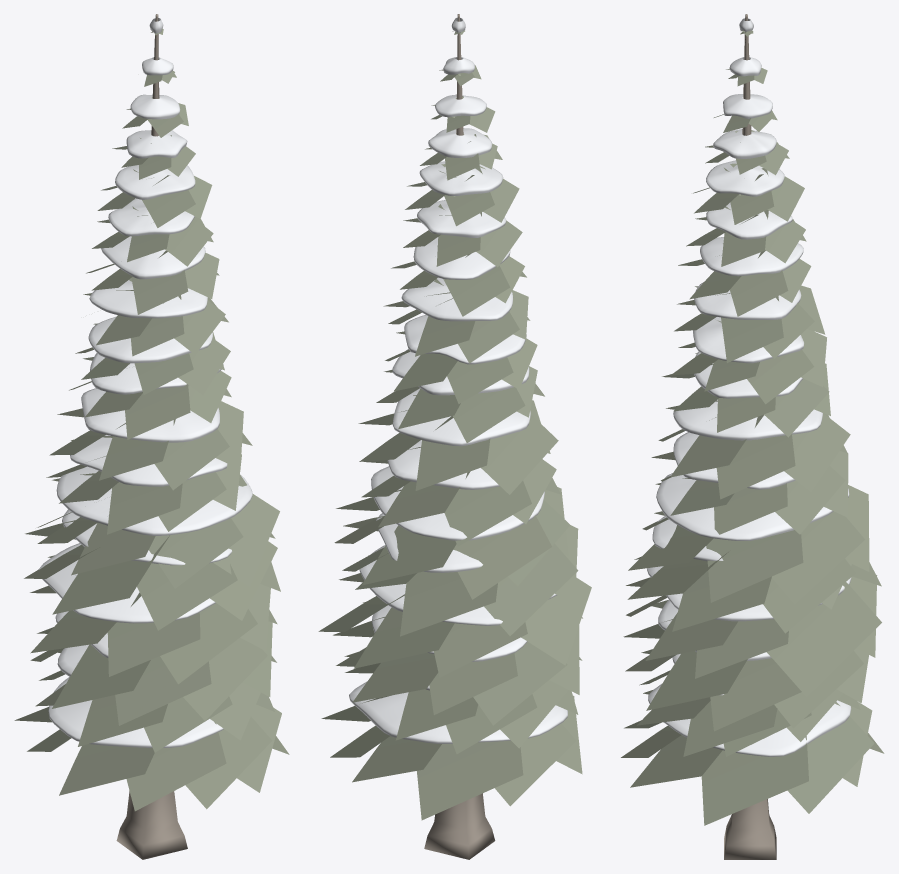
File: fir_603.glb
3 renders of one model, left to right at view 1: azimuth 30°, elevation 25°; view 2: azimuth 150°, elevation 25°; view 3: azimuth 270°, elevation 25°, orthographic.
Parts seen in each view (by area): view 1: fir_603_boughs, fir_603_snow, fir_603_limbs; view 2: fir_603_boughs, fir_603_snow, fir_603_limbs; view 3: fir_603_boughs, fir_603_snow, fir_603_limbs.
Boxes of the visible parts, bbox=[...] form: fir_603_boughs: bbox=[14, 28, 289, 811]; fir_603_snow: bbox=[38, 18, 252, 747]; fir_603_limbs: bbox=[116, 14, 187, 859]; fir_603_boughs: bbox=[318, 30, 591, 820]; fir_603_snow: bbox=[349, 17, 567, 743]; fir_603_limbs: bbox=[424, 14, 495, 859]; fir_603_boughs: bbox=[621, 30, 884, 825]; fir_603_snow: bbox=[647, 18, 851, 756]; fir_603_limbs: bbox=[724, 14, 776, 859].
Bounding box in the file's own units: 7.41 × 25.72 × 7.38.
